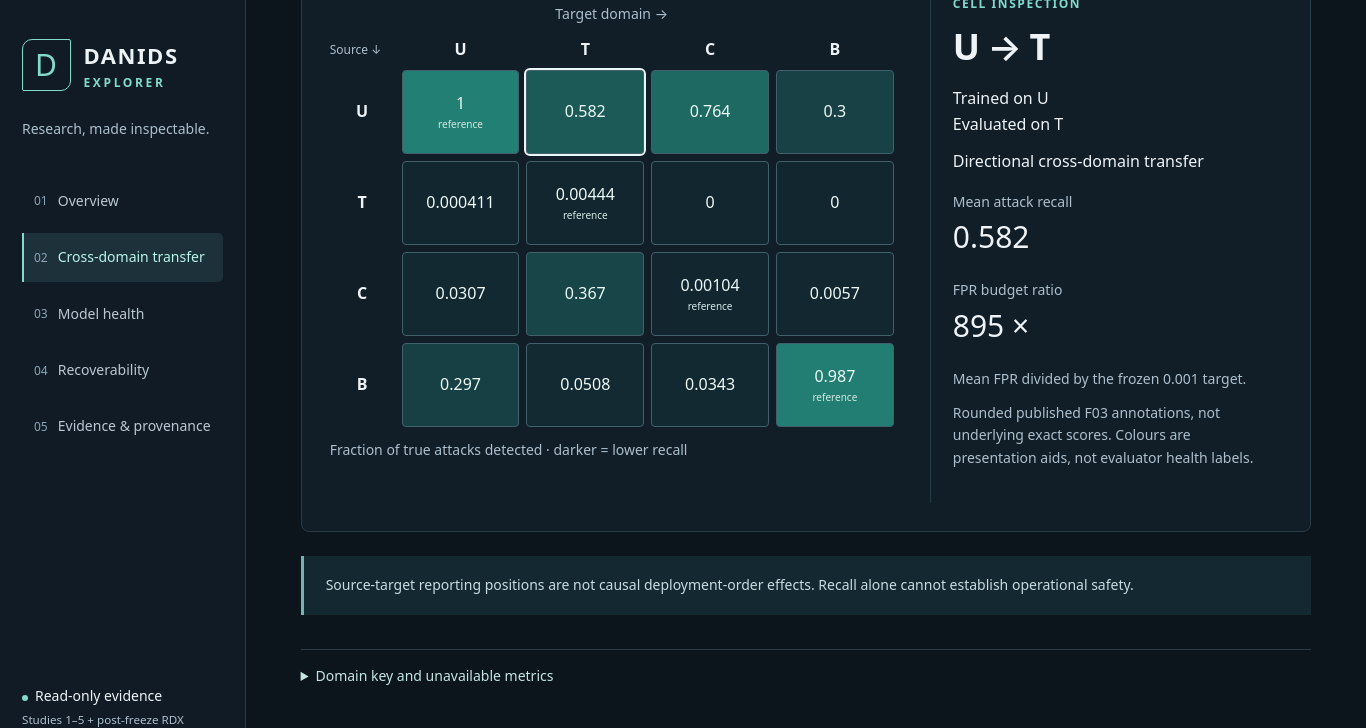
Test: five evidence routes › inspects transfer cells and switches published metrics
This screenshot has width=1366, height=728.
(page scrolled)
Click the button named "B to T:" at [585, 384], box [526,342,644,426]
(page scrolled)
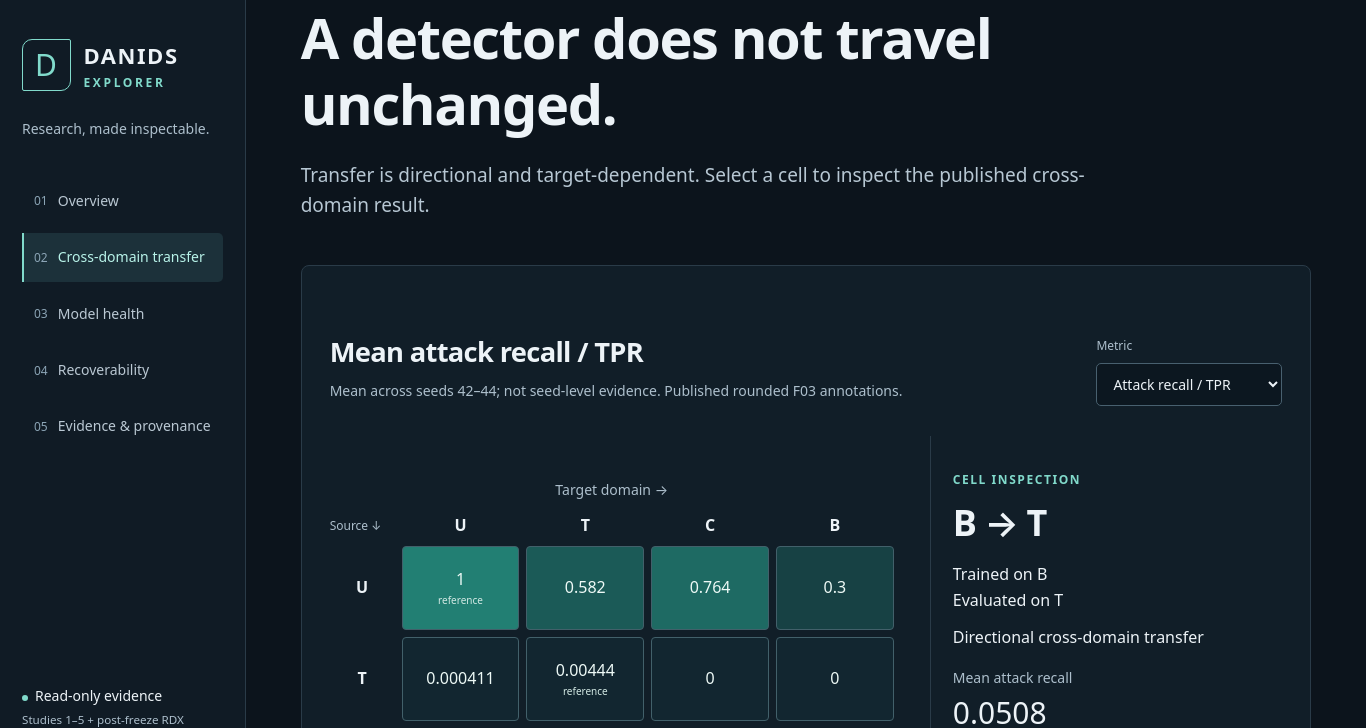
Expected: the text "Evaluated on T" is shown, [953,589,1063,611]
Expected: the text "Trained on B" is shown, [953,563,1047,585]
Select "FPR budget ratio" in the dropdown labelled "Metric" at [1189, 384], box [1096,363,1282,406]
(page scrolled)
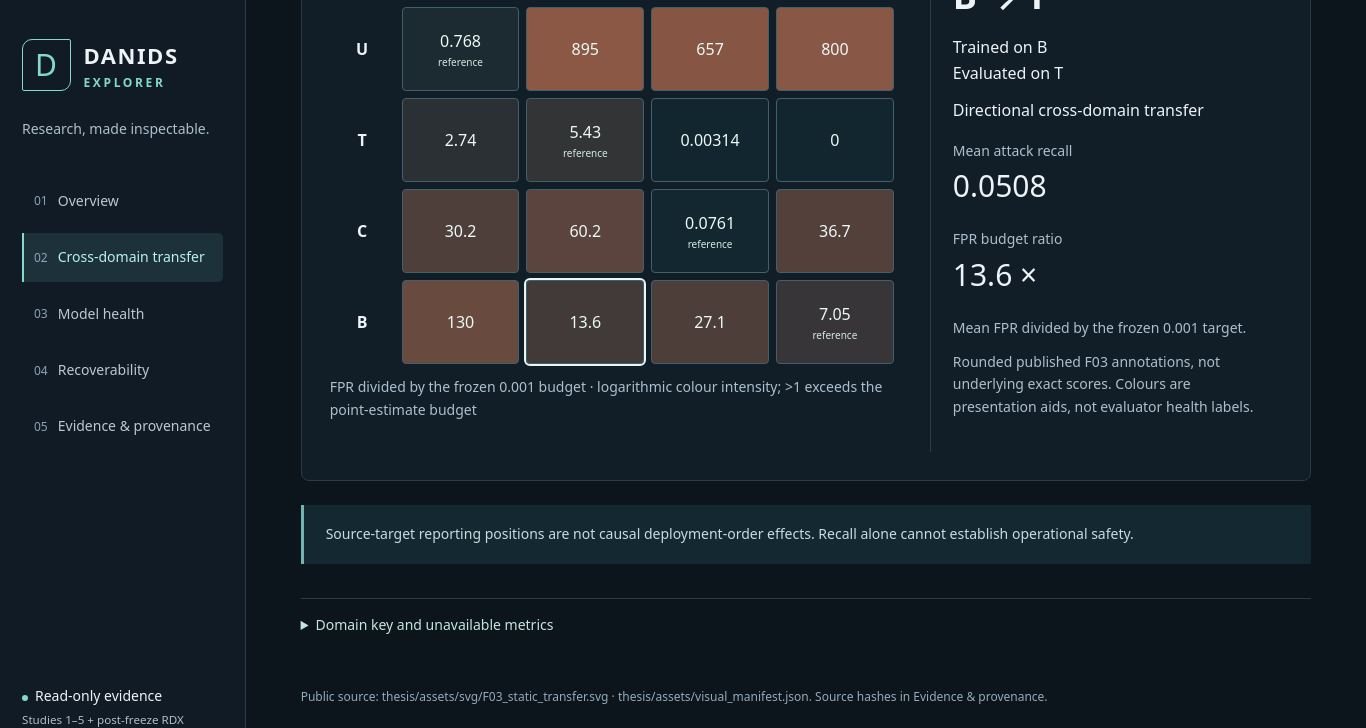
Expected: the text "Rounded published F03 annotations" is shown, [953,352,1253,416]
Expected: the button named "B to T: Mean false-positive budget ratio 13.6" is shown, [526,280,644,364]
